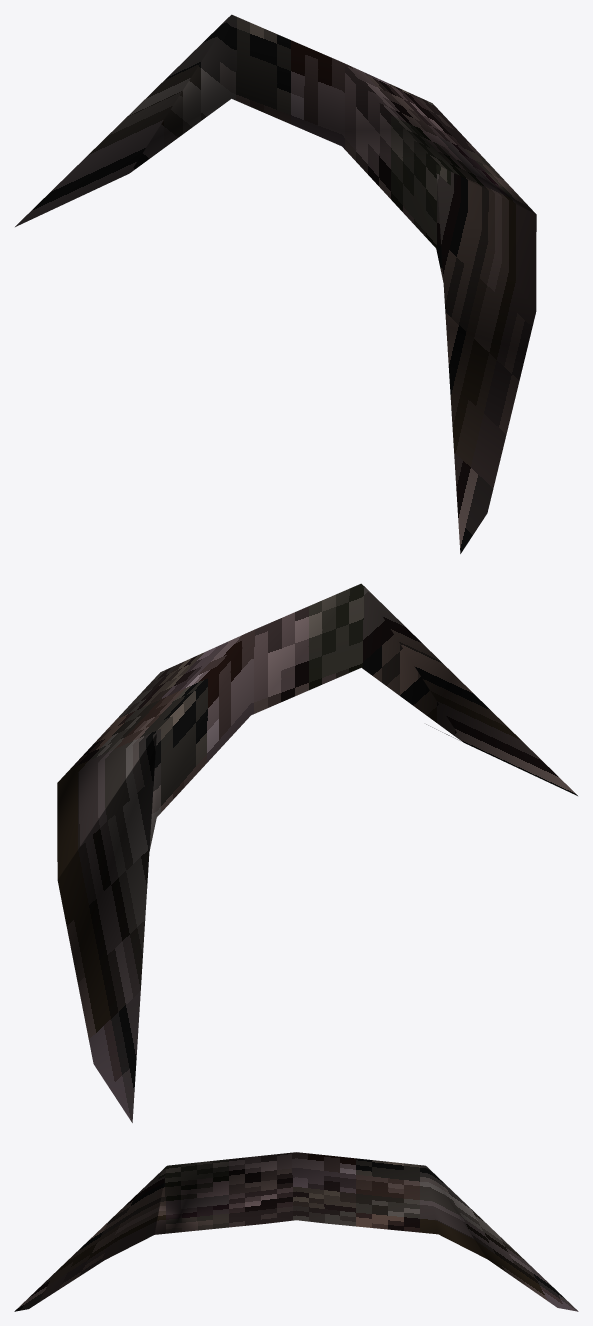
The model's file is IR_Moustache01.glb.
3 views of the same model, one above another, from view 1: azimuth 30°, elevation 25°; view 2: azimuth 150°, elevation 25°; view 3: azimuth 270°, elevation 25° (orthographic). The views are drawn at different scales.
Parts seen in each view (by area): view 1: IR_MOUSTACHE01; view 2: IR_MOUSTACHE01; view 3: IR_MOUSTACHE01.
Part boxes in pixels (box(x1,y1,x2,y2)): IR_MOUSTACHE01: box(15, 14, 536, 553); IR_MOUSTACHE01: box(57, 583, 577, 1122); IR_MOUSTACHE01: box(14, 1152, 578, 1311).
Bounding box in the file's own units: 0.028 × 0.036 × 0.096.
1 material, 1 textured.
